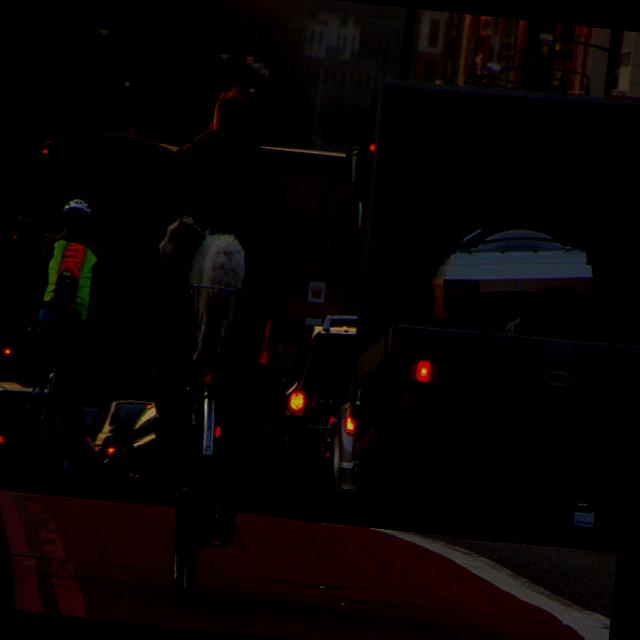Vehicle: (308, 73, 640, 547), (5, 124, 184, 453), (238, 140, 376, 408), (242, 302, 364, 520), (252, 308, 358, 524), (0, 372, 106, 498), (80, 387, 172, 508), (302, 376, 370, 524)
